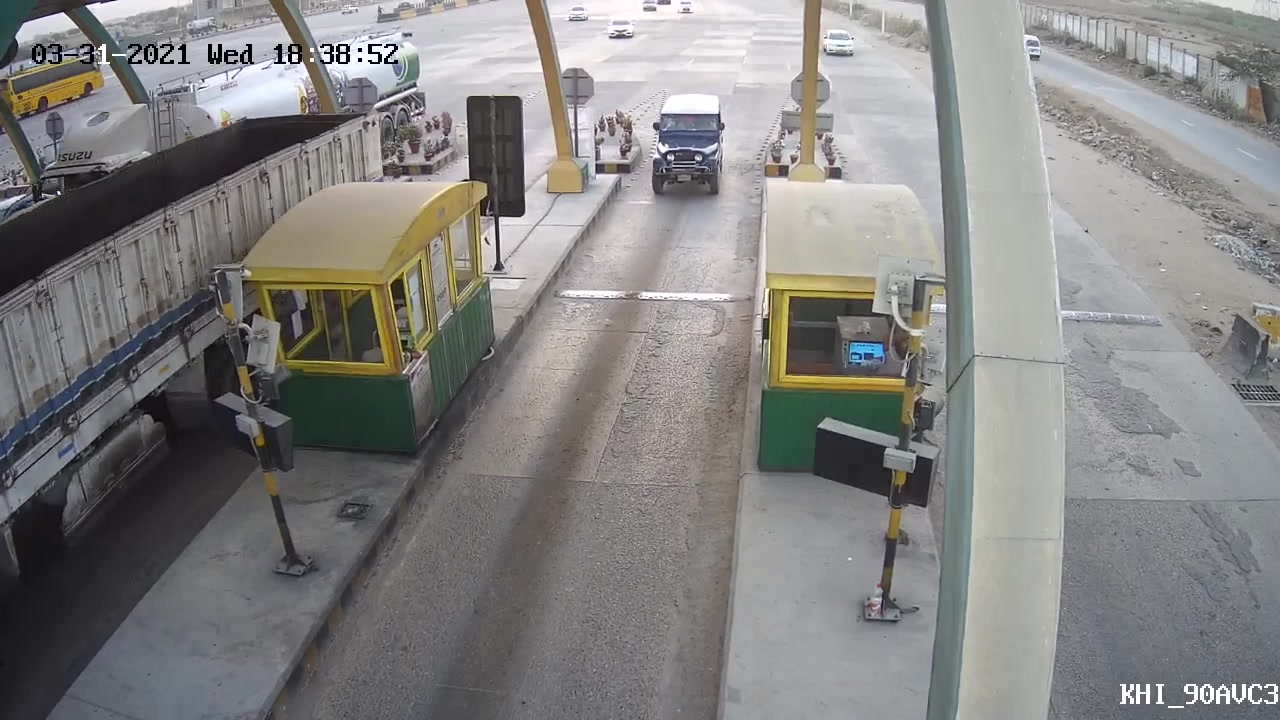F1: (631, 88, 734, 201)
